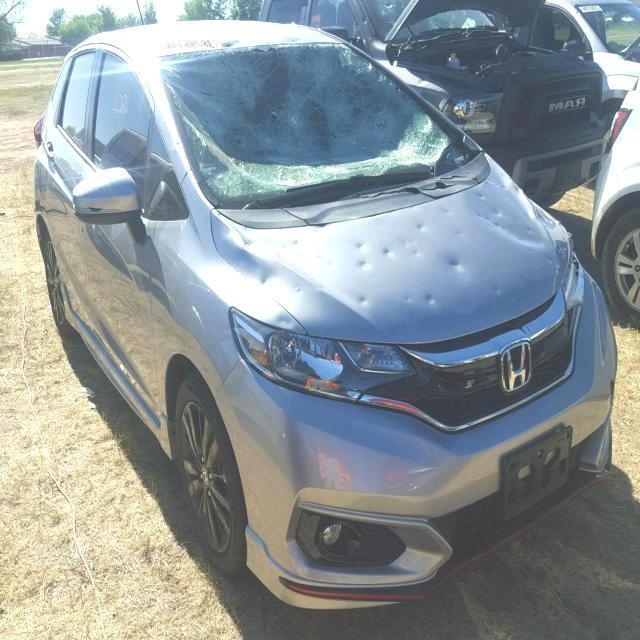minor: (467, 165, 536, 234), (216, 234, 308, 285), (352, 243, 418, 281), (373, 292, 449, 319), (324, 287, 370, 313), (425, 210, 458, 237), (438, 250, 464, 280), (260, 234, 301, 250), (415, 222, 427, 230)
severe: (153, 42, 465, 205)
